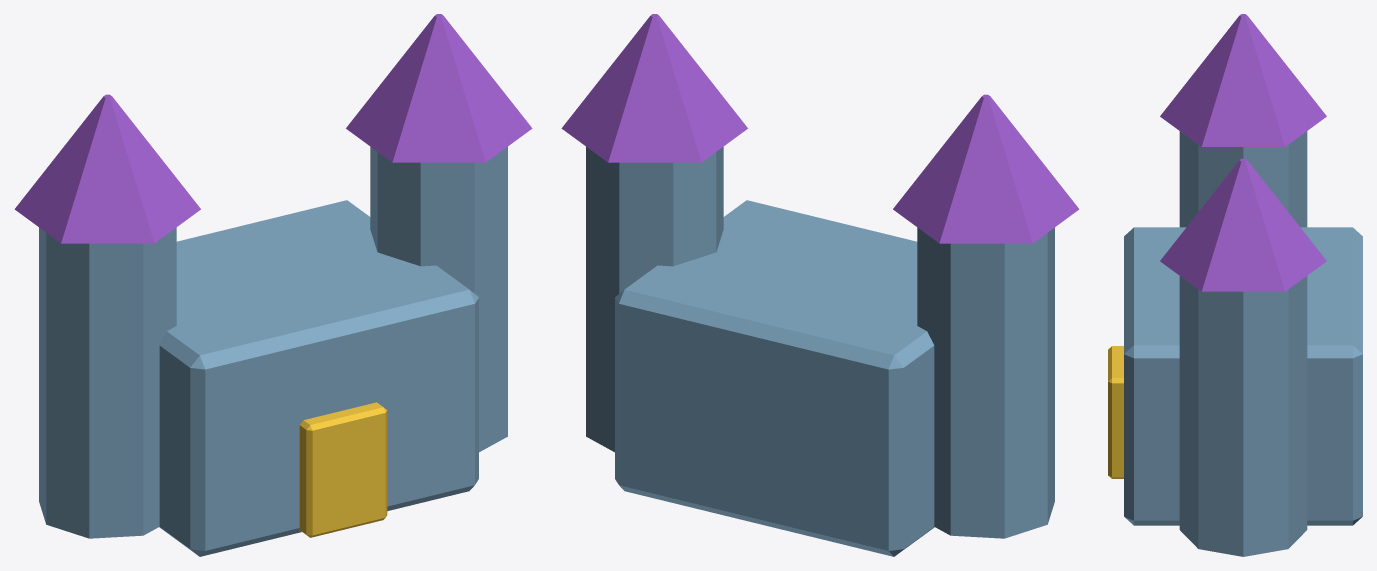
The model's file is toy_castle.glb.
The picture shows the model from 3 angles, left to right: view 1: azimuth 30°, elevation 25°; view 2: azimuth 150°, elevation 25°; view 3: azimuth 270°, elevation 25°; orthographic projection. The views are drawn at different scales.
Visible parts, largest first — view 1: toy_castle; view 2: toy_castle; view 3: toy_castle.
Part boxes in pixels (x1,y1,x2,y2): toy_castle: (14,14,532,556); toy_castle: (561,14,1079,556); toy_castle: (1108,14,1362,556).
Bounding box in the file's own units: 2.45 × 2.1 × 1.28.
